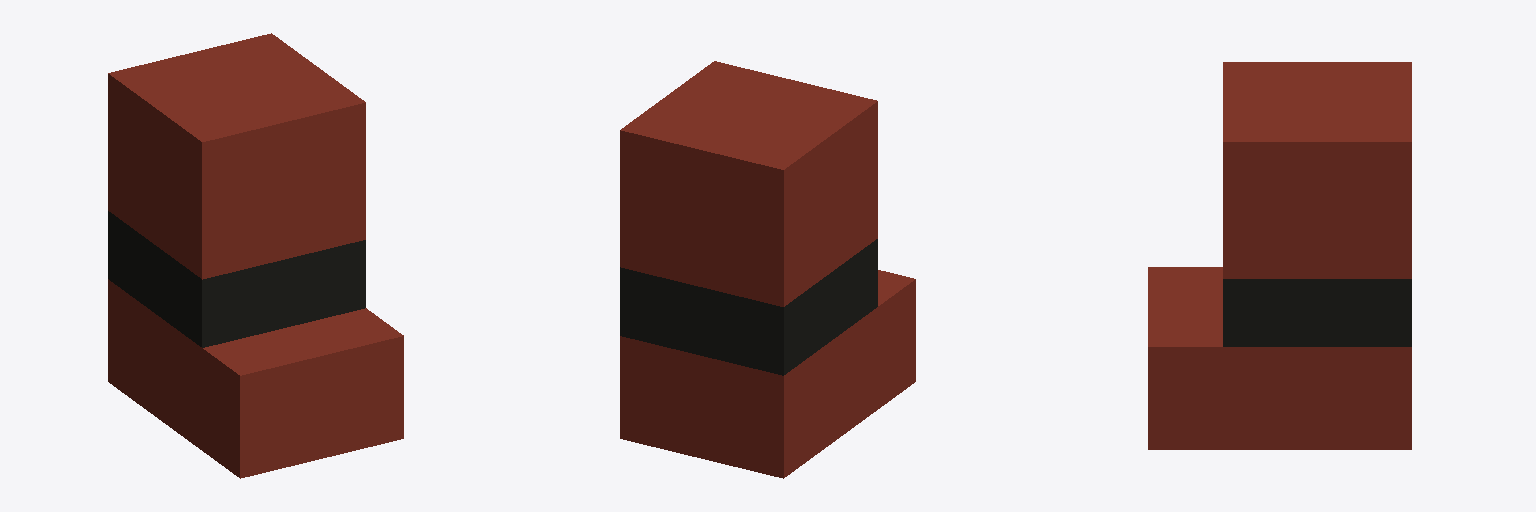
3 renders of one model, left to right at view 1: azimuth 30°, elevation 25°; view 2: azimuth 150°, elevation 25°; view 3: azimuth 270°, elevation 25°, orthographic.
Visible parts, largest first — view 1: object 1; view 2: object 1; view 3: object 1.
Boxes of the visible parts, x1=… form: object 1: x1=108, y1=33, x2=403, y2=478; object 1: x1=620, y1=61, x2=915, y2=478; object 1: x1=1148, y1=62, x2=1411, y2=449.
Bounding box in the file's own units: 0.5 × 0.9 × 0.7.
Materials: 1 (1 with a texture image).